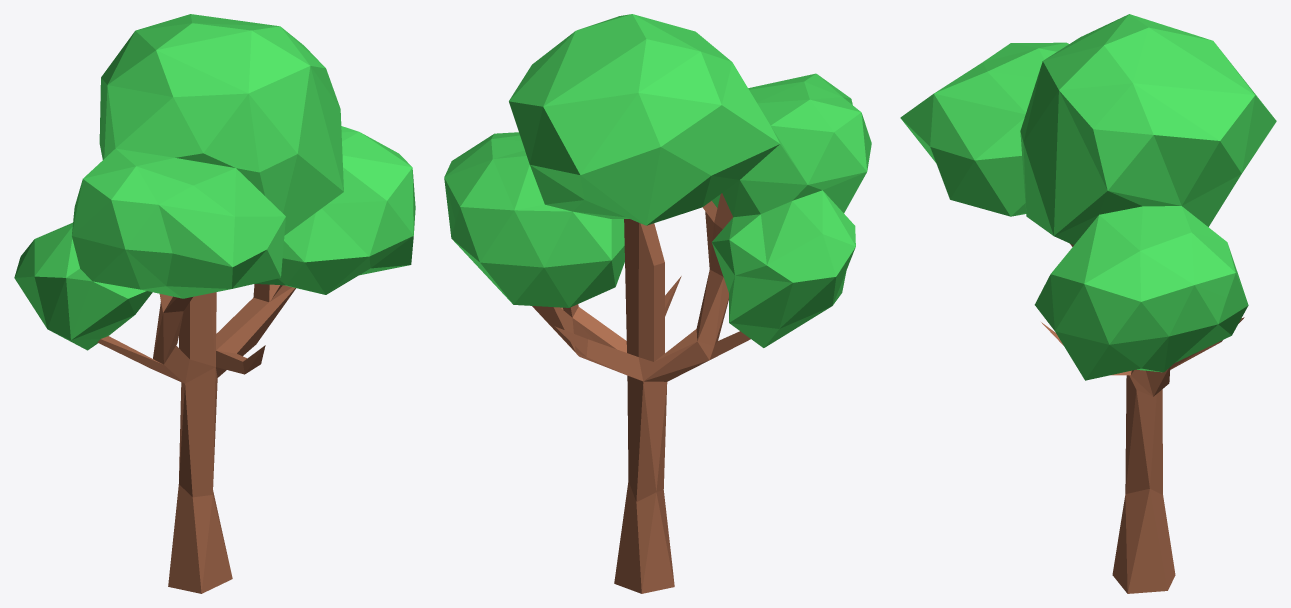
File: Tree_01.fbx
3 renders of one model, left to right at view 1: azimuth 30°, elevation 25°; view 2: azimuth 150°, elevation 25°; view 3: azimuth 270°, elevation 25°, orthographic. The views are drawn at different scales.
Visible parts, largest first — view 1: Cylinder; view 2: Cylinder; view 3: Cylinder.
Boxes of the visible parts, left/top/right/bottom form: Cylinder: left=14, top=14, right=415, bottom=593; Cylinder: left=444, top=14, right=871, bottom=593; Cylinder: left=900, top=14, right=1276, bottom=593.
Size of the model in its own units: 419 by 571 by 353.
